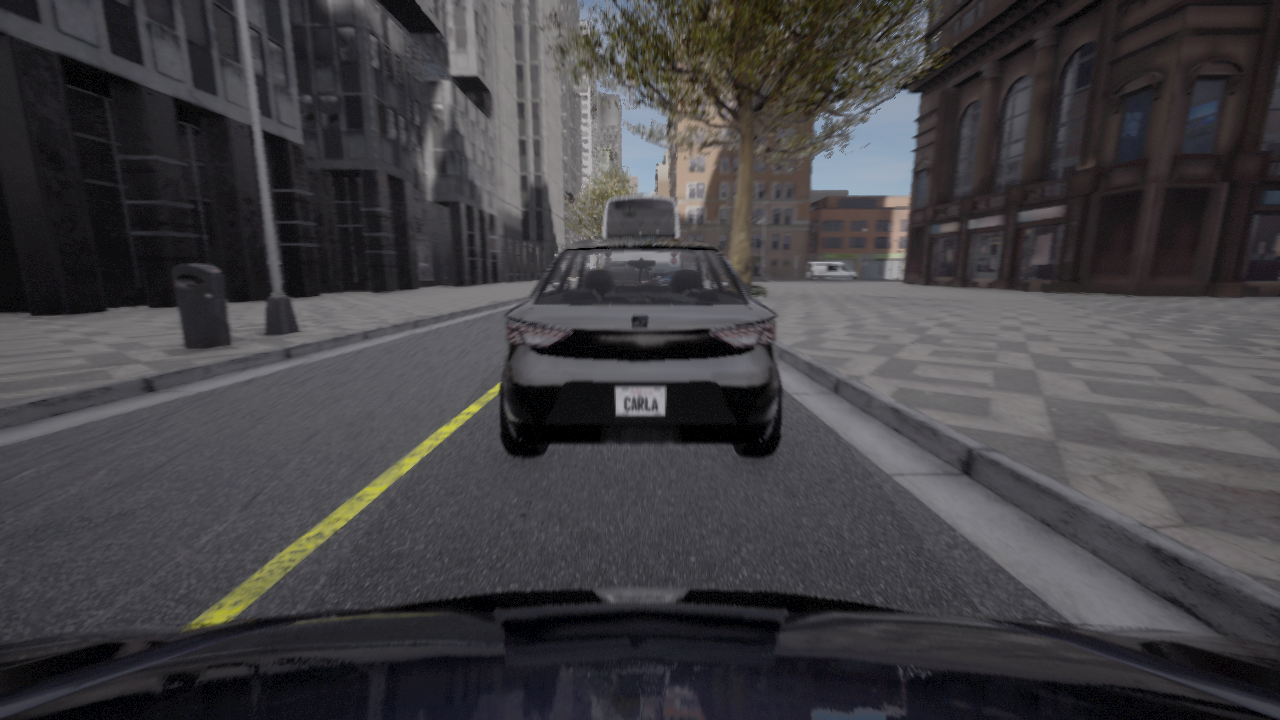cyclist: (0, 588, 1279, 719), (499, 238, 782, 456), (602, 196, 679, 237), (806, 261, 856, 280)
